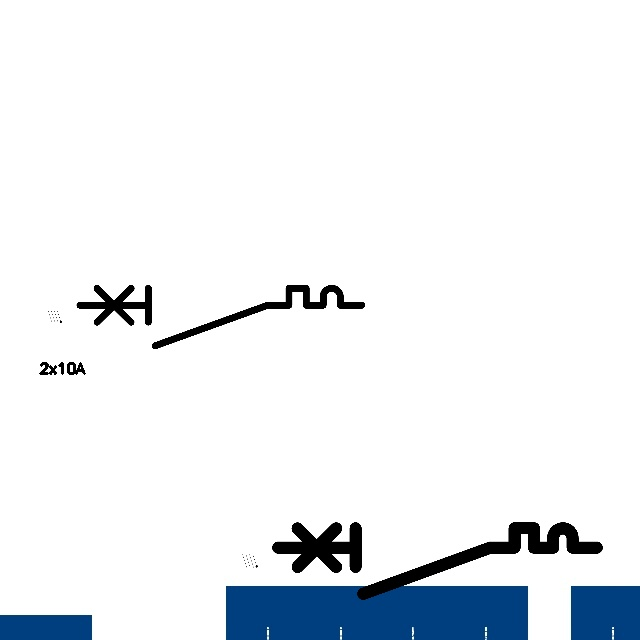interruptor_termomagnetico: (269, 520, 604, 602), (72, 281, 368, 353)
